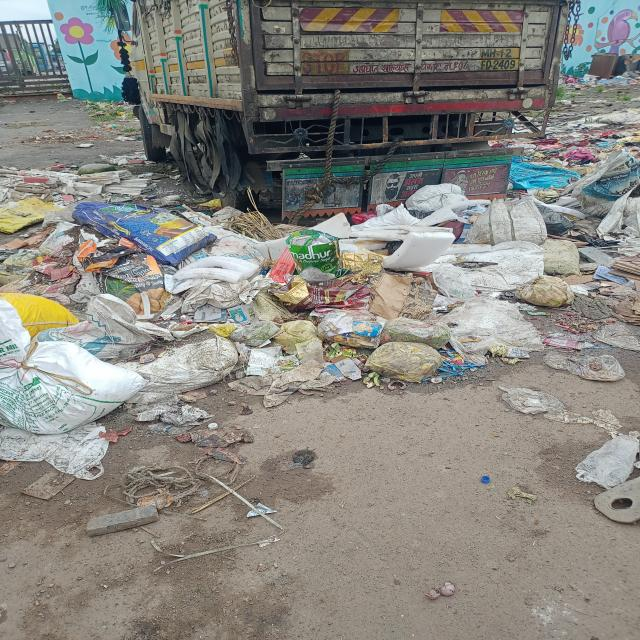garbage: (1, 174, 558, 387), (532, 115, 640, 322)
